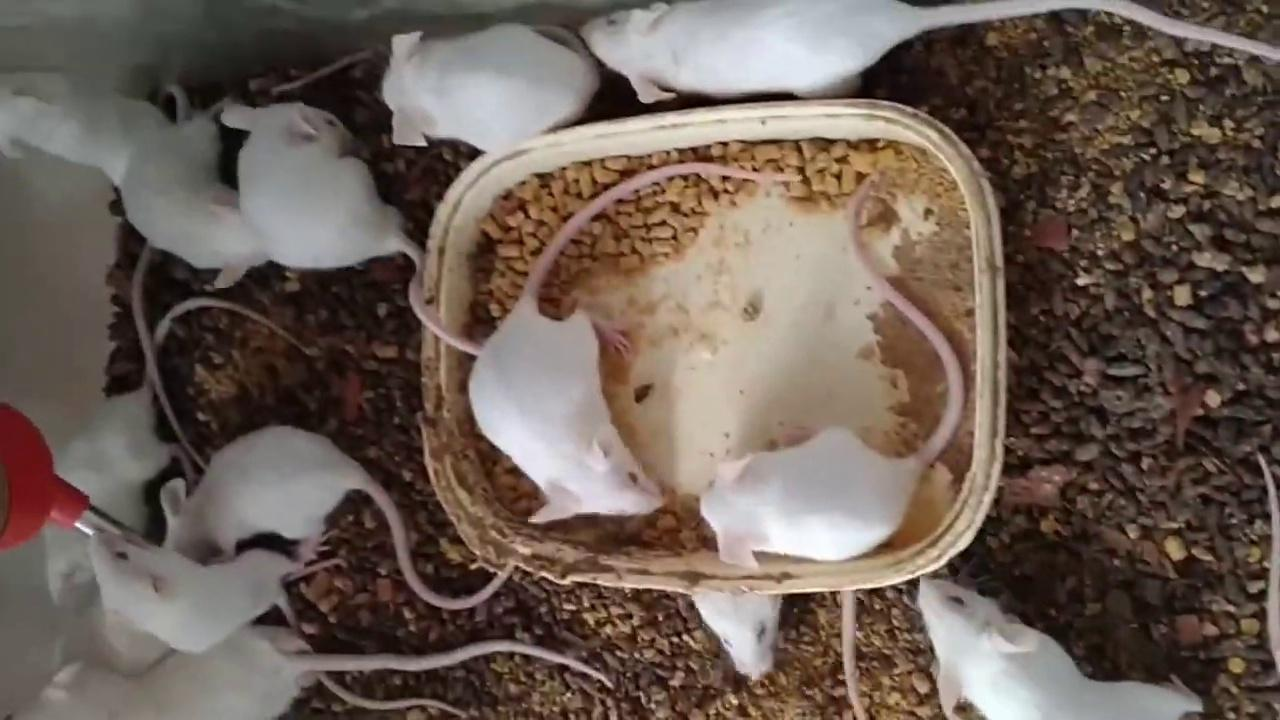rat: (472, 164, 804, 523), (700, 174, 965, 566), (50, 296, 306, 605), (581, 0, 1280, 103), (92, 534, 468, 720), (223, 98, 480, 354), (162, 426, 516, 609), (11, 625, 616, 720), (917, 577, 1204, 720), (382, 23, 598, 155), (122, 114, 266, 288), (0, 67, 175, 188), (690, 594, 784, 680)
